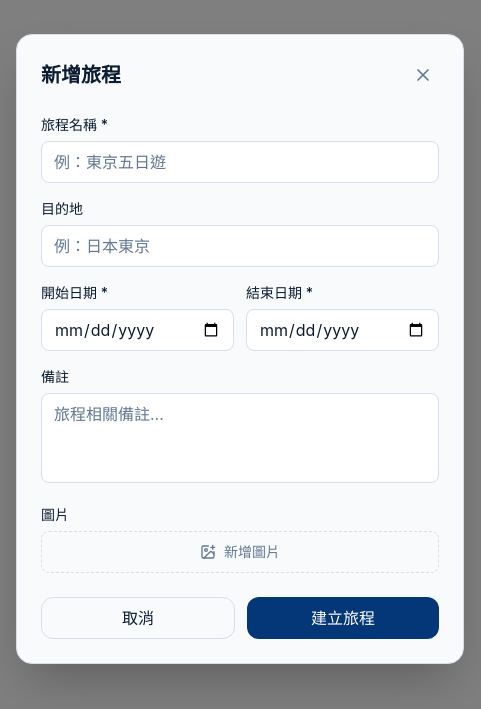
AddTripModal › shows an error and does not create a trip when the travel period is not selected
Type "My Trip" into the field with placeholder "例：東京五日遊". click: (240, 162)
box: [41, 141, 439, 183]
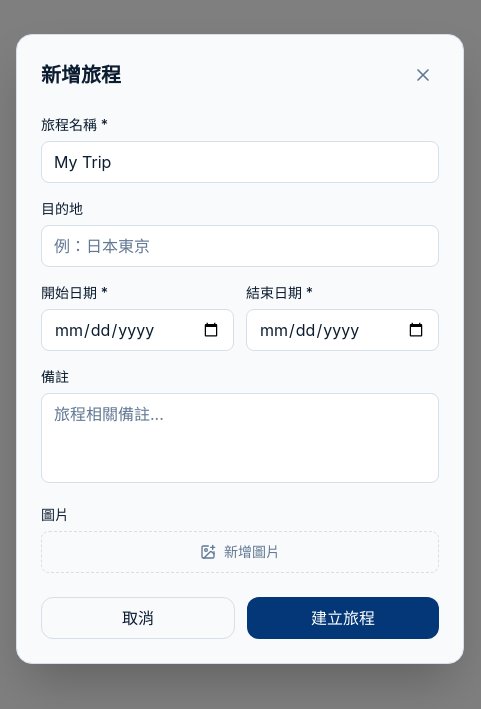
Submit the form
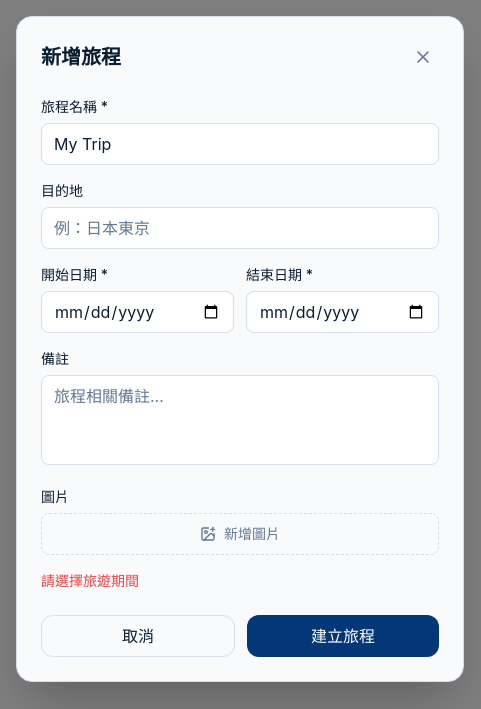
Expected: the text "請選擇旅遊期間" is shown, [41, 572, 139, 589]
